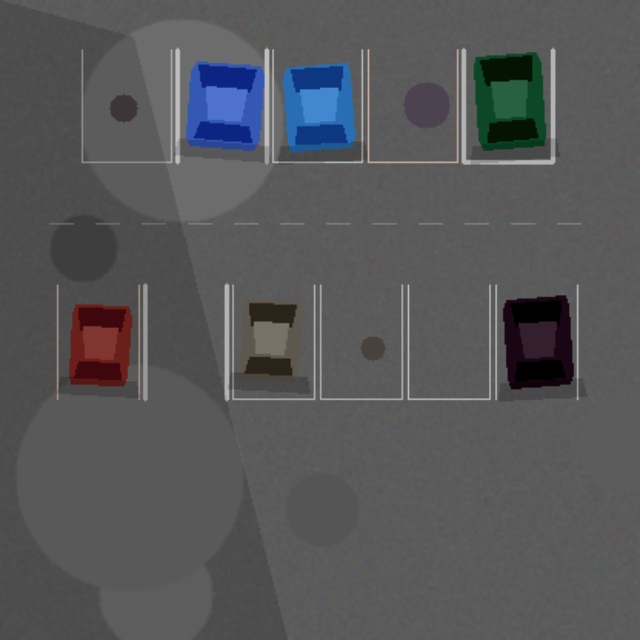space-empty: (82, 49, 171, 162), (368, 49, 457, 162), (320, 285, 402, 398), (145, 285, 226, 398), (408, 285, 489, 398)
space-occupied: (272, 49, 362, 162), (177, 49, 266, 162), (463, 49, 552, 162), (232, 285, 314, 398), (495, 285, 577, 398), (57, 285, 138, 398)
